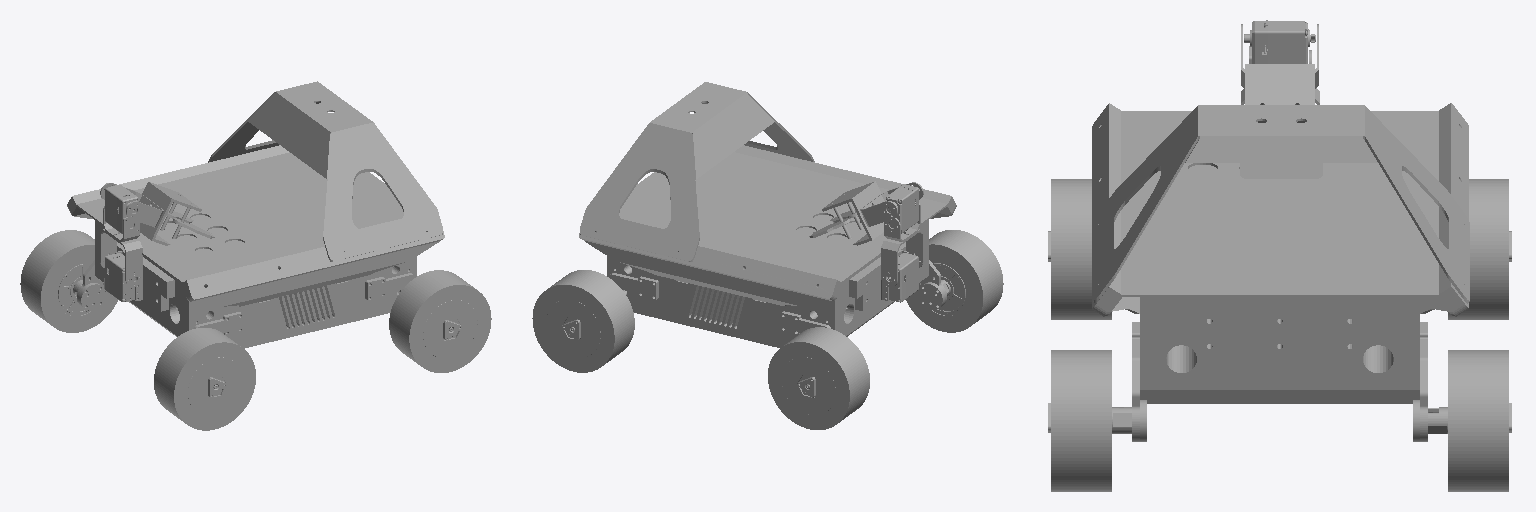
--- Facts derived from the render (not from the file) ---
The picture shows the robot from 3 angles, left to right: view 1: azimuth 30°, elevation 25°; view 2: azimuth 150°, elevation 25°; view 3: azimuth 270°, elevation 25°; orthographic projection.
Model v6 with 24 links and 23 joints (8 continuous, 15 fixed), rooted at base_link, posed every joint at zero.
Visible links, largest first — view 1: upper_blue_v1_1, upper_silver_v1_1, base_link, new_wheel_v1_1, new_wheel_v1__2__1, new_wheel_v1__2___1__1, grap_base_v1_1, big_U_self_v2_1, new_motor_v2_1, new_motor_v2__1__1, big_U_self_v2__1__1, car_stand_v2_1 (+2 smaller); view 2: upper_blue_v1_1, upper_silver_v1_1, base_link, new_wheel_v1__2___1__1, new_wheel_v1__1__1, new_wheel_v1__2__1, grap_base_v1_1, big_U_self_v2_1, new_motor_v2_1, new_motor_v2__1__1, big_U_self_v2__1__1, car_stand_v2__1__1 (+2 smaller); view 3: upper_blue_v1_1, base_link, upper_silver_v1_1, new_wheel_v1_1, new_wheel_v1__1__1, new_wheel_v1__2__1, new_wheel_v1__2___1__1, grap_base_v1_1, new_motor_v2__1__1, car_stand_v2_1, car_stand_v2__1__1.
Link boxes in pixels (x1,y1,x2,y2): upper_blue_v1_1: (67, 145, 444, 306); upper_silver_v1_1: (208, 81, 442, 261); base_link: (95, 215, 416, 348); new_wheel_v1_1: (389, 270, 491, 372); new_wheel_v1__2__1: (154, 328, 255, 430); new_wheel_v1__2___1__1: (20, 230, 117, 332); grap_base_v1_1: (140, 182, 201, 245); big_U_self_v2_1: (100, 229, 142, 287); new_motor_v2_1: (104, 253, 137, 301); new_motor_v2__1__1: (105, 185, 137, 233); big_U_self_v2__1__1: (100, 183, 163, 227); car_stand_v2_1: (365, 273, 415, 300); upper_blue_v1_1: (579, 145, 956, 306); upper_silver_v1_1: (580, 82, 814, 261); base_link: (607, 203, 928, 347); new_wheel_v1__2___1__1: (768, 327, 869, 429); new_wheel_v1__1__1: (532, 270, 634, 372); new_wheel_v1__2__1: (906, 230, 1003, 332); grap_base_v1_1: (822, 181, 883, 245); big_U_self_v2_1: (881, 229, 923, 287); new_motor_v2_1: (886, 253, 918, 302); new_motor_v2__1__1: (886, 184, 918, 233); big_U_self_v2__1__1: (860, 182, 923, 226); car_stand_v2__1__1: (608, 273, 658, 300); upper_blue_v1_1: (1092, 103, 1468, 316); base_link: (1140, 165, 1419, 403); upper_silver_v1_1: (1093, 105, 1469, 303); new_wheel_v1_1: (1048, 350, 1131, 491); new_wheel_v1__1__1: (1428, 350, 1511, 491); new_wheel_v1__2__1: (1048, 179, 1111, 319); new_wheel_v1__2___1__1: (1448, 179, 1511, 319); grap_base_v1_1: (1245, 64, 1314, 104); new_motor_v2__1__1: (1244, 20, 1315, 63); car_stand_v2_1: (1132, 322, 1139, 441); car_stand_v2__1__1: (1420, 322, 1427, 441).
Bounding box of the posed robot: 0.3889 × 0.3306 × 0.2581 m (x, y, z).
Meshes: 24 distinct files referenced, 24 mesh visuals loaded (24 binary STL).

The robot description file, URDF, robot "v6":
<?xml version='1.0' encoding='utf-8'?>
<robot name="v6">
  <material name="silver">
    <color rgba="0.700 0.700 0.700 1.000" />
  </material>
  <transmission name="Revolute 29_tran">
    <type>transmission_interface/SimpleTransmission</type>
    <joint name="Revolute 29">
      <hardwareInterface>hardware_interface/EffortJointInterface</hardwareInterface>
    </joint>
    <actuator name="Revolute 29_actr">
      <hardwareInterface>hardware_interface/EffortJointInterface</hardwareInterface>
      <mechanicalReduction>1</mechanicalReduction>
    </actuator>
  </transmission>
  <transmission name="Revolute 32_tran">
    <type>transmission_interface/SimpleTransmission</type>
    <joint name="Revolute 32">
      <hardwareInterface>hardware_interface/EffortJointInterface</hardwareInterface>
    </joint>
    <actuator name="Revolute 32_actr">
      <hardwareInterface>hardware_interface/EffortJointInterface</hardwareInterface>
      <mechanicalReduction>1</mechanicalReduction>
    </actuator>
  </transmission>
  <transmission name="Revolute 35_tran">
    <type>transmission_interface/SimpleTransmission</type>
    <joint name="Revolute 35">
      <hardwareInterface>hardware_interface/EffortJointInterface</hardwareInterface>
    </joint>
    <actuator name="Revolute 35_actr">
      <hardwareInterface>hardware_interface/EffortJointInterface</hardwareInterface>
      <mechanicalReduction>1</mechanicalReduction>
    </actuator>
  </transmission>
  <transmission name="Revolute 38_tran">
    <type>transmission_interface/SimpleTransmission</type>
    <joint name="Revolute 38">
      <hardwareInterface>hardware_interface/EffortJointInterface</hardwareInterface>
    </joint>
    <actuator name="Revolute 38_actr">
      <hardwareInterface>hardware_interface/EffortJointInterface</hardwareInterface>
      <mechanicalReduction>1</mechanicalReduction>
    </actuator>
  </transmission>
  <transmission name="Revolute 41_tran">
    <type>transmission_interface/SimpleTransmission</type>
    <joint name="Revolute 41">
      <hardwareInterface>hardware_interface/EffortJointInterface</hardwareInterface>
    </joint>
    <actuator name="Revolute 41_actr">
      <hardwareInterface>hardware_interface/EffortJointInterface</hardwareInterface>
      <mechanicalReduction>1</mechanicalReduction>
    </actuator>
  </transmission>
  <transmission name="Revolute 44_tran">
    <type>transmission_interface/SimpleTransmission</type>
    <joint name="Revolute 44">
      <hardwareInterface>hardware_interface/EffortJointInterface</hardwareInterface>
    </joint>
    <actuator name="Revolute 44_actr">
      <hardwareInterface>hardware_interface/EffortJointInterface</hardwareInterface>
      <mechanicalReduction>1</mechanicalReduction>
    </actuator>
  </transmission>
  <transmission name="Revolute 48_tran">
    <type>transmission_interface/SimpleTransmission</type>
    <joint name="Revolute 48">
      <hardwareInterface>hardware_interface/EffortJointInterface</hardwareInterface>
    </joint>
    <actuator name="Revolute 48_actr">
      <hardwareInterface>hardware_interface/EffortJointInterface</hardwareInterface>
      <mechanicalReduction>1</mechanicalReduction>
    </actuator>
  </transmission>
  <transmission name="Revolute 49_tran">
    <type>transmission_interface/SimpleTransmission</type>
    <joint name="Revolute 49">
      <hardwareInterface>hardware_interface/EffortJointInterface</hardwareInterface>
    </joint>
    <actuator name="Revolute 49_actr">
      <hardwareInterface>hardware_interface/EffortJointInterface</hardwareInterface>
      <mechanicalReduction>1</mechanicalReduction>
    </actuator>
  </transmission>
  <gazebo>
    <plugin filename="libgazebo_ros_control.so" name="control" />
  </gazebo>
  <gazebo reference="base_link">
    <material>Gazebo/Silver</material>
    <mu1>0.2</mu1>
    <mu2>0.2</mu2>
    <selfCollide>true</selfCollide>
    <gravity>true</gravity>
  </gazebo>
  <gazebo reference="upper_blue_v1_1">
    <material>Gazebo/Silver</material>
    <mu1>0.2</mu1>
    <mu2>0.2</mu2>
    <selfCollide>true</selfCollide>
  </gazebo>
  <gazebo reference="upper_silver_v1_1">
    <material>Gazebo/Silver</material>
    <mu1>0.2</mu1>
    <mu2>0.2</mu2>
    <selfCollide>true</selfCollide>
  </gazebo>
  <gazebo reference="Side_U_Bracket_Component1_v2_1">
    <material>Gazebo/Silver</material>
    <mu1>0.2</mu1>
    <mu2>0.2</mu2>
    <selfCollide>true</selfCollide>
  </gazebo>
  <gazebo reference="new_motor_v2_1">
    <material>Gazebo/Silver</material>
    <mu1>0.2</mu1>
    <mu2>0.2</mu2>
    <selfCollide>true</selfCollide>
  </gazebo>
  <gazebo reference="car_stand_v2_1">
    <material>Gazebo/Silver</material>
    <mu1>0.2</mu1>
    <mu2>0.2</mu2>
    <selfCollide>true</selfCollide>
  </gazebo>
  <gazebo reference="car_stand_2_v2_v1_1">
    <material>Gazebo/Silver</material>
    <mu1>0.2</mu1>
    <mu2>0.2</mu2>
    <selfCollide>true</selfCollide>
  </gazebo>
  <gazebo reference="new_wheel_v1_1">
    <material>Gazebo/Silver</material>
    <mu1>0.2</mu1>
    <mu2>0.2</mu2>
    <selfCollide>true</selfCollide>
  </gazebo>
  <gazebo reference="car_stand_v2__1__1">
    <material>Gazebo/Silver</material>
    <mu1>0.2</mu1>
    <mu2>0.2</mu2>
    <selfCollide>true</selfCollide>
  </gazebo>
  <gazebo reference="car_stand_2_v2_v1__1__1">
    <material>Gazebo/Silver</material>
    <mu1>0.2</mu1>
    <mu2>0.2</mu2>
    <selfCollide>true</selfCollide>
  </gazebo>
  <gazebo reference="new_wheel_v1__1__1">
    <material>Gazebo/Silver</material>
    <mu1>0.2</mu1>
    <mu2>0.2</mu2>
    <selfCollide>true</selfCollide>
  </gazebo>
  <gazebo reference="car_stand_v2__2__1">
    <material>Gazebo/Silver</material>
    <mu1>0.2</mu1>
    <mu2>0.2</mu2>
    <selfCollide>true</selfCollide>
  </gazebo>
  <gazebo reference="car_stand_2_v2_v1__2__1">
    <material>Gazebo/Silver</material>
    <mu1>0.2</mu1>
    <mu2>0.2</mu2>
    <selfCollide>true</selfCollide>
  </gazebo>
  <gazebo reference="new_wheel_v1__2__1">
    <material>Gazebo/Silver</material>
    <mu1>0.2</mu1>
    <mu2>0.2</mu2>
    <selfCollide>true</selfCollide>
  </gazebo>
  <gazebo reference="car_stand_v2__2___1__1">
    <material>Gazebo/Silver</material>
    <mu1>0.2</mu1>
    <mu2>0.2</mu2>
    <selfCollide>true</selfCollide>
  </gazebo>
  <gazebo reference="car_stand_2_v2_v1__2___1__1">
    <material>Gazebo/Silver</material>
    <mu1>0.2</mu1>
    <mu2>0.2</mu2>
    <selfCollide>true</selfCollide>
  </gazebo>
  <gazebo reference="new_wheel_v1__2___1__1">
    <material>Gazebo/Silver</material>
    <mu1>0.2</mu1>
    <mu2>0.2</mu2>
    <selfCollide>true</selfCollide>
  </gazebo>
  <gazebo reference="big_U_self_v2_1">
    <material>Gazebo/Silver</material>
    <mu1>0.2</mu1>
    <mu2>0.2</mu2>
    <selfCollide>true</selfCollide>
  </gazebo>
  <gazebo reference="small_U_self_v3_v2_1">
    <material>Gazebo/Silver</material>
    <mu1>0.2</mu1>
    <mu2>0.2</mu2>
    <selfCollide>true</selfCollide>
  </gazebo>
  <gazebo reference="new_motor_v2__1__1">
    <material>Gazebo/Silver</material>
    <mu1>0.2</mu1>
    <mu2>0.2</mu2>
    <selfCollide>true</selfCollide>
  </gazebo>
  <gazebo reference="big_U_self_v2__1__1">
    <material>Gazebo/Silver</material>
    <mu1>0.2</mu1>
    <mu2>0.2</mu2>
    <selfCollide>true</selfCollide>
  </gazebo>
  <gazebo reference="grap_base_v1_1">
    <material>Gazebo/Silver</material>
    <mu1>0.2</mu1>
    <mu2>0.2</mu2>
    <selfCollide>true</selfCollide>
  </gazebo>
  <gazebo reference="grap2_v2_1">
    <material>Gazebo/Silver</material>
    <mu1>0.2</mu1>
    <mu2>0.2</mu2>
    <selfCollide>true</selfCollide>
  </gazebo>
  <gazebo reference="grap2_v2_Mirror__1">
    <material>Gazebo/Silver</material>
    <mu1>0.2</mu1>
    <mu2>0.2</mu2>
    <selfCollide>true</selfCollide>
  </gazebo>
  <link name="base_link">
    <inertial>
      <origin rpy="0 0 0" xyz="-0.11553126426818264 0.3343509101041353 0.06210098740688249" />
      <mass value="37.56290080252228" />
      <inertia ixx="0.155633" ixy="-0.0" ixz="0.000286" iyy="0.297492" iyz="0.0" izz="0.386843" />
    </inertial>
    <visual>
      <origin rpy="0 0 0" xyz="0 0 0" />
      <geometry>
        <mesh filename="package://v6_description/meshes/base_link.stl" scale="0.001 0.001 0.001" />
      </geometry>
      <material name="silver" />
    </visual>
    <collision>
      <origin rpy="0 0 0" xyz="0 0 0" />
      <geometry>
        <mesh filename="package://v6_description/meshes/base_link.stl" scale="0.001 0.001 0.001" />
      </geometry>
    </collision>
  </link>
  <link name="upper_blue_v1_1">
    <inertial>
      <origin rpy="0 0 0" xyz="0.0009557467788307433 0.0018926108398634733 -0.005546368824775272" />
      <mass value="2.711654241548037" />
      <inertia ixx="0.029512" ixy="4.7e-05" ixz="-1.7e-05" iyy="0.020937" iyz="-2e-05" izz="0.049756" />
    </inertial>
    <visual>
      <origin rpy="0 0 0" xyz="0.114065 -0.334351 -0.110913" />
      <geometry>
        <mesh filename="package://v6_description/meshes/upper_blue_v1_1.stl" scale="0.001 0.001 0.001" />
      </geometry>
      <material name="silver" />
    </visual>
    <collision>
      <origin rpy="0 0 0" xyz="0.114065 -0.334351 -0.110913" />
      <geometry>
        <mesh filename="package://v6_description/meshes/upper_blue_v1_1.stl" scale="0.001 0.001 0.001" />
      </geometry>
    </collision>
  </link>
  <link name="upper_silver_v1_1">
    <inertial>
      <origin rpy="0 0 0" xyz="-0.05397145103461684 0.12865565118005895 0.06340297559246169" />
      <mass value="0.5824308278195107" />
      <inertia ixx="0.00486" ixy="0.0" ixz="2.4e-05" iyy="0.001444" iyz="-0.0" izz="0.004712" />
    </inertial>
    <visual>
      <origin rpy="0 0 0" xyz="-0.020935 -0.20677 -0.110239" />
      <geometry>
        <mesh filename="package://v6_description/meshes/upper_silver_v1_1.stl" scale="0.001 0.001 0.001" />
      </geometry>
      <material name="silver" />
    </visual>
    <collision>
      <origin rpy="0 0 0" xyz="-0.020935 -0.20677 -0.110239" />
      <geometry>
        <mesh filename="package://v6_description/meshes/upper_silver_v1_1.stl" scale="0.001 0.001 0.001" />
      </geometry>
    </collision>
  </link>
  <link name="Side_U_Bracket_Component1_v2_1">
    <inertial>
      <origin rpy="0 0 0" xyz="-0.0021965017854476687 -8.991875011243877e-08 -8.398858180322377e-05" />
      <mass value="0.02951040982880665" />
      <inertia ixx="1.1e-05" ixy="0.0" ixz="-0.0" iyy="4e-06" iyz="-0.0" izz="7e-06" />
    </inertial>
    <visual>
      <origin rpy="0 0 0" xyz="0.264049 -0.334351 -0.074934" />
      <geometry>
        <mesh filename="package://v6_description/meshes/Side_U_Bracket_Component1_v2_1.stl" scale="0.001 0.001 0.001" />
      </geometry>
      <material name="silver" />
    </visual>
    <collision>
      <origin rpy="0 0 0" xyz="0.264049 -0.334351 -0.074934" />
      <geometry>
        <mesh filename="package://v6_description/meshes/Side_U_Bracket_Component1_v2_1.stl" scale="0.001 0.001 0.001" />
      </geometry>
    </collision>
  </link>
  <link name="new_motor_v2_1">
    <inertial>
      <origin rpy="0 0 0" xyz="-0.007329192500702741 -0.022426817930538745 0.017705283950517715" />
      <mass value="0.2036448419526595" />
      <inertia ixx="5.1e-05" ixy="-0.0" ixz="-0.0" iyy="3.5e-05" iyz="-0.0" izz="3e-05" />
    </inertial>
    <visual>
      <origin rpy="0 0 0" xyz="0.271362 -0.354601 -0.057401" />
      <geometry>
        <mesh filename="package://v6_description/meshes/new_motor_v2_1.stl" scale="0.001 0.001 0.001" />
      </geometry>
      <material name="silver" />
    </visual>
    <collision>
      <origin rpy="0 0 0" xyz="0.271362 -0.354601 -0.057401" />
      <geometry>
        <mesh filename="package://v6_description/meshes/new_motor_v2_1.stl" scale="0.001 0.001 0.001" />
      </geometry>
    </collision>
  </link>
  <link name="car_stand_v2_1">
    <inertial>
      <origin rpy="0 0 0" xyz="0.03988982720191274 -0.0025000899185844416 -0.017953891628120888" />
      <mass value="0.06574803361092448" />
      <inertia ixx="1.6e-05" ixy="0.0" ixz="1.6e-05" iyy="5.4e-05" iyz="0.0" izz="3.7e-05" />
    </inertial>
    <visual>
      <origin rpy="0 0 0" xyz="0.034705 -0.234351 -0.052597" />
      <geometry>
        <mesh filename="package://v6_description/meshes/car_stand_v2_1.stl" scale="0.001 0.001 0.001" />
      </geometry>
      <material name="silver" />
    </visual>
    <collision>
      <origin rpy="0 0 0" xyz="0.034705 -0.234351 -0.052597" />
      <geometry>
        <mesh filename="package://v6_description/meshes/car_stand_v2_1.stl" scale="0.001 0.001 0.001" />
      </geometry>
    </collision>
  </link>
  <link name="car_stand_2_v2_v1_1">
    <inertial>
      <origin rpy="0 0 0" xyz="-0.008838436779542623 0.0024999100814157293 -0.008838742405980921" />
      <mass value="0.025649195499023388" />
      <inertia ixx="1e-06" ixy="0.0" ixz="0.0" iyy="3e-06" iyz="0.0" izz="1e-06" />
    </inertial>
    <visual>
      <origin rpy="0 0 0" xyz="-0.038906 -0.234351 -0.017587" />
      <geometry>
        <mesh filename="package://v6_description/meshes/car_stand_2_v2_v1_1.stl" scale="0.001 0.001 0.001" />
      </geometry>
      <material name="silver" />
    </visual>
    <collision>
      <origin rpy="0 0 0" xyz="-0.038906 -0.234351 -0.017587" />
      <geometry>
        <mesh filename="package://v6_description/meshes/car_stand_2_v2_v1_1.stl" scale="0.001 0.001 0.001" />
      </geometry>
    </collision>
  </link>
  <link name="new_wheel_v1_1">
    <inertial>
      <origin rpy="0 0 0" xyz="-7.661286367220688e-07 -0.03633722962657118 1.709065836411755e-06" />
      <mass value="2.7644063382593123" />
      <inertia ixx="0.002173" ixy="-0.0" ixz="0.0" iyy="0.003475" iyz="-0.0" izz="0.002173" />
    </inertial>
    <visual>
      <origin rpy="0 0 0" xyz="-0.030068 -0.229351 -0.008748" />
      <geometry>
        <mesh filename="package://v6_description/meshes/new_wheel_v1_1.stl" scale="0.001 0.001 0.001" />
      </geometry>
      <material name="silver" />
    </visual>
    <collision>
      <origin rpy="0 0 0" xyz="-0.030068 -0.229351 -0.008748" />
      <geometry>
        <mesh filename="package://v6_description/meshes/new_wheel_v1_1.stl" scale="0.001 0.001 0.001" />
      </geometry>
    </collision>
  </link>
  <link name="car_stand_v2__1__1">
    <inertial>
      <origin rpy="0 0 0" xyz="0.03988982720191739 0.0024999100814168673 -0.017953891628120867" />
      <mass value="0.06574803361092448" />
      <inertia ixx="1.6e-05" ixy="0.0" ixz="1.6e-05" iyy="5.4e-05" iyz="0.0" izz="3.7e-05" />
    </inertial>
    <visual>
      <origin rpy="0 0 0" xyz="0.034705 -0.434351 -0.052597" />
      <geometry>
        <mesh filename="package://v6_description/meshes/car_stand_v2__1__1.stl" scale="0.001 0.001 0.001" />
      </geometry>
      <material name="silver" />
    </visual>
    <collision>
      <origin rpy="0 0 0" xyz="0.034705 -0.434351 -0.052597" />
      <geometry>
        <mesh filename="package://v6_description/meshes/car_stand_v2__1__1.stl" scale="0.001 0.001 0.001" />
      </geometry>
    </collision>
  </link>
  <link name="car_stand_2_v2_v1__1__1">
    <inertial>
      <origin rpy="0 0 0" xyz="-0.008838436779537981 -0.002500089918583026 -0.008838742405980895" />
      <mass value="0.025649195499023388" />
      <inertia ixx="1e-06" ixy="-0.0" ixz="0.0" iyy="3e-06" iyz="0.0" izz="1e-06" />
    </inertial>
    <visual>
      <origin rpy="0 0 0" xyz="-0.038906 -0.434351 -0.017587" />
      <geometry>
        <mesh filename="package://v6_description/meshes/car_stand_2_v2_v1__1__1.stl" scale="0.001 0.001 0.001" />
      </geometry>
      <material name="silver" />
    </visual>
    <collision>
      <origin rpy="0 0 0" xyz="-0.038906 -0.434351 -0.017587" />
      <geometry>
        <mesh filename="package://v6_description/meshes/car_stand_2_v2_v1__1__1.stl" scale="0.001 0.001 0.001" />
      </geometry>
    </collision>
  </link>
  <link name="new_wheel_v1__1__1">
    <inertial>
      <origin rpy="0 0 0" xyz="-7.66128632066071e-07 0.036337049789403775 -1.1938777991337551e-06" />
      <mass value="2.7644063382593123" />
      <inertia ixx="0.002173" ixy="0.0" ixz="-0.0" iyy="0.003475" iyz="-0.0" izz="0.002173" />
    </inertial>
    <visual>
      <origin rpy="0 0 0" xyz="-0.030068 -0.439351 -0.008748" />
      <geometry>
        <mesh filename="package://v6_description/meshes/new_wheel_v1__1__1.stl" scale="0.001 0.001 0.001" />
      </geometry>
      <material name="silver" />
    </visual>
    <collision>
      <origin rpy="0 0 0" xyz="-0.030068 -0.439351 -0.008748" />
      <geometry>
        <mesh filename="package://v6_description/meshes/new_wheel_v1__1__1.stl" scale="0.001 0.001 0.001" />
      </geometry>
    </collision>
  </link>
  <link name="car_stand_v2__2__1">
    <inertial>
      <origin rpy="0 0 0" xyz="-0.039890552712641136 -0.002500089918581444 -0.01795389162812419" />
      <mass value="0.06574803361092448" />
      <inertia ixx="1.6e-05" ixy="0.0" ixz="-1.6e-05" iyy="5.4e-05" iyz="-0.0" izz="3.7e-05" />
    </inertial>
    <visual>
      <origin rpy="0 0 0" xyz="0.193373 -0.234351 -0.052597" />
      <geometry>
        <mesh filename="package://v6_description/meshes/car_stand_v2__2__1.stl" scale="0.001 0.001 0.001" />
      </geometry>
      <material name="silver" />
    </visual>
    <collision>
      <origin rpy="0 0 0" xyz="0.193373 -0.234351 -0.052597" />
      <geometry>
        <mesh filename="package://v6_description/meshes/car_stand_v2__2__1.stl" scale="0.001 0.001 0.001" />
      </geometry>
    </collision>
  </link>
  <link name="car_stand_2_v2_v1__2__1">
    <inertial>
      <origin rpy="0 0 0" xyz="0.00883871126878566 0.0024999100814186437 -0.008838742405986177" />
      <mass value="0.025649195499023388" />
      <inertia ixx="1e-06" ixy="0.0" ixz="0.0" iyy="3e-06" iyz="-0.0" izz="1e-06" />
    </inertial>
    <visual>
      <origin rpy="0 0 0" xyz="0.266985 -0.234351 -0.017587" />
      <geometry>
        <mesh filename="package://v6_description/meshes/car_stand_2_v2_v1__2__1.stl" scale="0.001 0.001 0.001" />
      </geometry>
      <material name="silver" />
    </visual>
    <collision>
      <origin rpy="0 0 0" xyz="0.266985 -0.234351 -0.017587" />
      <geometry>
        <mesh filename="package://v6_description/meshes/car_stand_2_v2_v1__2__1.stl" scale="0.001 0.001 0.001" />
      </geometry>
    </collision>
  </link>
  <link name="new_wheel_v1__2__1">
    <inertial>
      <origin rpy="0 0 0" xyz="-6.180803067135088e-07 -0.03633722962656821 1.7090658331400665e-06" />
      <mass value="2.7644063382593123" />
      <inertia ixx="0.002173" ixy="-0.0" ixz="0.0" iyy="0.003475" iyz="-0.0" izz="0.002173" />
    </inertial>
    <visual>
      <origin rpy="0 0 0" xyz="0.258146 -0.229351 -0.008748" />
      <geometry>
        <mesh filename="package://v6_description/meshes/new_wheel_v1__2__1.stl" scale="0.001 0.001 0.001" />
      </geometry>
      <material name="silver" />
    </visual>
    <collision>
      <origin rpy="0 0 0" xyz="0.258146 -0.229351 -0.008748" />
      <geometry>
        <mesh filename="package://v6_description/meshes/new_wheel_v1__2__1.stl" scale="0.001 0.001 0.001" />
      </geometry>
    </collision>
  </link>
  <link name="car_stand_v2__2___1__1">
    <inertial>
      <origin rpy="0 0 0" xyz="-0.02389055271263707 0.002499910081420531 -0.017953891628124496" />
      <mass value="0.06574803361092448" />
      <inertia ixx="1.6e-05" ixy="0.0" ixz="-1.6e-05" iyy="5.4e-05" iyz="0.0" izz="3.7e-05" />
    </inertial>
    <visual>
      <origin rpy="0 0 0" xyz="0.209373 -0.434351 -0.052597" />
      <geometry>
        <mesh filename="package://v6_description/meshes/car_stand_v2__2___1__1.stl" scale="0.001 0.001 0.001" />
      </geometry>
      <material name="silver" />
    </visual>
    <collision>
      <origin rpy="0 0 0" xyz="0.209373 -0.434351 -0.052597" />
      <geometry>
        <mesh filename="package://v6_description/meshes/car_stand_v2__2___1__1.stl" scale="0.001 0.001 0.001" />
      </geometry>
    </collision>
  </link>
  <link name="car_stand_2_v2_v1__2___1__1">
    <inertial>
      <origin rpy="0 0 0" xyz="0.008838711268789712 -0.0025000899185792513 -0.008838742405986496" />
      <mass value="0.025649195499023388" />
      <inertia ixx="1e-06" ixy="0.0" ixz="0.0" iyy="3e-06" iyz="0.0" izz="1e-06" />
    </inertial>
    <visual>
      <origin rpy="0 0 0" xyz="0.266985 -0.434351 -0.017587" />
      <geometry>
        <mesh filename="package://v6_description/meshes/car_stand_2_v2_v1__2___1__1.stl" scale="0.001 0.001 0.001" />
      </geometry>
      <material name="silver" />
    </visual>
    <collision>
      <origin rpy="0 0 0" xyz="0.266985 -0.434351 -0.017587" />
      <geometry>
        <mesh filename="package://v6_description/meshes/car_stand_2_v2_v1__2___1__1.stl" scale="0.001 0.001 0.001" />
      </geometry>
    </collision>
  </link>
  <link name="new_wheel_v1__2___1__1">
    <inertial>
      <origin rpy="0 0 0" xyz="-6.180803027167059e-07 0.036337049789407494 -1.1938778027593272e-06" />
      <mass value="2.7644063382593123" />
      <inertia ixx="0.002173" ixy="0.0" ixz="-0.0" iyy="0.003475" iyz="-0.0" izz="0.002173" />
    </inertial>
    <visual>
      <origin rpy="0 0 0" xyz="0.258146 -0.439351 -0.008748" />
      <geometry>
        <mesh filename="package://v6_description/meshes/new_wheel_v1__2___1__1.stl" scale="0.001 0.001 0.001" />
      </geometry>
      <material name="silver" />
    </visual>
    <collision>
      <origin rpy="0 0 0" xyz="0.258146 -0.439351 -0.008748" />
      <geometry>
        <mesh filename="package://v6_description/meshes/new_wheel_v1__2___1__1.stl" scale="0.001 0.001 0.001" />
      </geometry>
    </collision>
  </link>
  <link name="big_U_self_v2_1">
    <inertial>
      <origin rpy="0 0 0" xyz="-0.02423767526178927 -8.991950056769227e-08 -8.853660350069403e-06" />
      <mass value="0.041847447766480805" />
      <inertia ixx="2.4e-05" ixy="0.0" ixz="-0.0" iyy="1.1e-05" iyz="-0.0" izz="3.2e-05" />
    </inertial>
    <visual>
      <origin rpy="0 0 0" xyz="0.278674 -0.334851 -0.085006" />
      <geometry>
        <mesh filename="package://v6_description/meshes/big_U_self_v2_1.stl" scale="0.001 0.001 0.001" />
      </geometry>
      <material name="silver" />
    </visual>
    <collision>
      <origin rpy="0 0 0" xyz="0.278674 -0.334851 -0.085006" />
      <geometry>
        <mesh filename="package://v6_description/meshes/big_U_self_v2_1.stl" scale="0.001 0.001 0.001" />
      </geometry>
    </collision>
  </link>
  <link name="small_U_self_v3_v2_1">
    <inertial>
      <origin rpy="0 0 0" xyz="-0.009287648733685094 -0.0005384482220820441 -3.1143207411127305e-06" />
      <mass value="0.025534175468152884" />
      <inertia ixx="9e-06" ixy="-0.0" ixz="-0.0" iyy="3e-06" iyz="-0.0" izz="1e-05" />
    </inertial>
    <visual>
      <origin rpy="0 0 0" xyz="0.318674 -0.334851 -0.084991" />
      <geometry>
        <mesh filename="package://v6_description/meshes/small_U_self_v3_v2_1.stl" scale="0.001 0.001 0.001" />
      </geometry>
      <material name="silver" />
    </visual>
    <collision>
      <origin rpy="0 0 0" xyz="0.318674 -0.334851 -0.084991" />
      <geometry>
        <mesh filename="package://v6_description/meshes/small_U_self_v3_v2_1.stl" scale="0.001 0.001 0.001" />
      </geometry>
    </collision>
  </link>
  <link name="new_motor_v2__1__1">
    <inertial>
      <origin rpy="0 0 0" xyz="-0.0026535935407322464 0.02242666042984809 -0.007555050277332054" />
      <mass value="0.20364393858439991" />
      <inertia ixx="3e-05" ixy="-0.0" ixz="-0.0" iyy="3.5e-05" iyz="-0.0" izz="5.1e-05" />
    </inertial>
    <visual>
      <origin rpy="0 0 0" xyz="0.346177 -0.314601 -0.092481" />
      <geometry>
        <mesh filename="package://v6_description/meshes/new_motor_v2__1__1.stl" scale="0.001 0.001 0.001" />
      </geometry>
      <material name="silver" />
    </visual>
    <collision>
      <origin rpy="0 0 0" xyz="0.346177 -0.314601 -0.092481" />
      <geometry>
        <mesh filename="package://v6_description/meshes/new_motor_v2__1__1.stl" scale="0.001 0.001 0.001" />
      </geometry>
    </collision>
  </link>
  <link name="big_U_self_v2__1__1">
    <inertial>
      <origin rpy="0 0 0" xyz="-9.12643416350889e-06 -8.993477979002407e-08 0.024237117404991515" />
      <mass value="0.04184744776647988" />
      <inertia ixx="3.2e-05" ixy="0.0" ixz="0.0" iyy="1.1e-05" iyz="-0.0" izz="2.4e-05" />
    </inertial>
    <visual>
      <origin rpy="0 0 0" xyz="0.358674 -0.334351 -0.084977" />
      <geometry>
        <mesh filename="package://v6_description/meshes/big_U_self_v2__1__1.stl" scale="0.001 0.001 0.001" />
      </geometry>
      <material name="silver" />
    </visual>
    <collision>
      <origin rpy="0 0 0" xyz="0.358674 -0.334351 -0.084977" />
      <geometry>
        <mesh filename="package://v6_description/meshes/big_U_self_v2__1__1.stl" scale="0.001 0.001 0.001" />
      </geometry>
    </collision>
  </link>
  <link name="grap_base_v1_1">
    <inertial>
      <origin rpy="0 0 0" xyz="5.0604957804400996e-05 -8.993024042114328e-08 0.01574867865416396" />
      <mass value="0.16096668074514336" />
      <inertia ixx="6.6e-05" ixy="-0.0" ixz="-0.0" iyy="9.8e-05" iyz="-0.0" izz="9.8e-05" />
    </inertial>
    <visual>
      <origin rpy="0 0 0" xyz="0.358689 -0.334351 -0.124977" />
      <geometry>
        <mesh filename="package://v6_description/meshes/grap_base_v1_1.stl" scale="0.001 0.001 0.001" />
      </geometry>
      <material name="silver" />
    </visual>
    <collision>
      <origin rpy="0 0 0" xyz="0.358689 -0.334351 -0.124977" />
      <geometry>
        <mesh filename="package://v6_description/meshes/grap_base_v1_1.stl" scale="0.001 0.001 0.001" />
      </geometry>
    </collision>
  </link>
  <link name="grap2_v2_1">
    <inertial>
      <origin rpy="0 0 0" xyz="0.0011003881163325624 0.005586980664124386 0.0328376081661004" />
      <mass value="0.040626783640930766" />
      <inertia ixx="2.7e-05" ixy="0.0" ixz="-2e-06" iyy="2.6e-05" iyz="0.0" izz="3e-06" />
    </inertial>
    <visual>
      <origin rpy="0 0 0" xyz="0.358702 -0.346851 -0.160477" />
      <geometry>
        <mesh filename="package://v6_description/meshes/grap2_v2_1.stl" scale="0.001 0.001 0.001" />
      </geometry>
      <material name="silver" />
    </visual>
    <collision>
      <origin rpy="0 0 0" xyz="0.358702 -0.346851 -0.160477" />
      <geometry>
        <mesh filename="package://v6_description/meshes/grap2_v2_1.stl" scale="0.001 0.001 0.001" />
      </geometry>
    </collision>
  </link>
  <link name="grap2_v2_Mirror__1">
    <inertial>
      <origin rpy="0 0 0" xyz="0.0011003881213494937 -0.0055871605220216836 0.03283760816689857" />
      <mass value="0.04062678364093079" />
      <inertia ixx="2.7e-05" ixy="-0.0" ixz="-2e-06" iyy="2.6e-05" iyz="-0.0" izz="3e-06" />
    </inertial>
    <visual>
      <origin rpy="0 0 0" xyz="0.358702 -0.321851 -0.160477" />
      <geometry>
        <mesh filename="package://v6_description/meshes/grap2_v2_Mirror__1.stl" scale="0.001 0.001 0.001" />
      </geometry>
      <material name="silver" />
    </visual>
    <collision>
      <origin rpy="0 0 0" xyz="0.358702 -0.321851 -0.160477" />
      <geometry>
        <mesh filename="package://v6_description/meshes/grap2_v2_Mirror__1.stl" scale="0.001 0.001 0.001" />
      </geometry>
    </collision>
  </link>
  <joint name="Rigid 1" type="fixed">
    <origin rpy="0 0 0" xyz="-0.114065 0.334351 0.110913" />
    <parent link="base_link" />
    <child link="upper_blue_v1_1" />
  </joint>
  <joint name="Rigid 2" type="fixed">
    <origin rpy="0 0 0" xyz="0.135 -0.127581 -0.000674" />
    <parent link="upper_blue_v1_1" />
    <child link="upper_silver_v1_1" />
  </joint>
  <joint name="Rigid 3" type="fixed">
    <origin rpy="0 0 0" xyz="-0.264049 0.334351 0.074934" />
    <parent link="base_link" />
    <child link="Side_U_Bracket_Component1_v2_1" />
  </joint>
  <joint name="Rigid 16" type="fixed">
    <origin rpy="0 0 0" xyz="-0.007313 0.02025 -0.017533" />
    <parent link="Side_U_Bracket_Component1_v2_1" />
    <child link="new_motor_v2_1" />
  </joint>
  <joint name="Rigid 27" type="fixed">
    <origin rpy="0 0 0" xyz="-0.034705 0.234351 0.052597" />
    <parent link="base_link" />
    <child link="car_stand_v2_1" />
  </joint>
  <joint name="Rigid 28" type="fixed">
    <origin rpy="0 0 0" xyz="0.073611 0.0 -0.03501" />
    <parent link="car_stand_v2_1" />
    <child link="car_stand_2_v2_v1_1" />
  </joint>
  <joint name="Revolute 29" type="continuous">
    <origin rpy="0 0 0" xyz="0.064773 -0.005 -0.043849" />
    <parent link="car_stand_v2_1" />
    <child link="new_wheel_v1_1" />
    <axis xyz="0.0 1.0 0.0" />
  </joint>
  <joint name="Rigid 30" type="fixed">
    <origin rpy="0 0 0" xyz="-0.034705 0.434351 0.052597" />
    <parent link="base_link" />
    <child link="car_stand_v2__1__1" />
  </joint>
  <joint name="Rigid 31" type="fixed">
    <origin rpy="0 0 0" xyz="0.073611 0.0 -0.03501" />
    <parent link="car_stand_v2__1__1" />
    <child link="car_stand_2_v2_v1__1__1" />
  </joint>
  <joint name="Revolute 32" type="continuous">
    <origin rpy="0 0 0" xyz="0.064773 0.005 -0.043849" />
    <parent link="car_stand_v2__1__1" />
    <child link="new_wheel_v1__1__1" />
    <axis xyz="0.0 1.0 0.0" />
  </joint>
  <joint name="Rigid 33" type="fixed">
    <origin rpy="0 0 0" xyz="-0.193373 0.234351 0.052597" />
    <parent link="base_link" />
    <child link="car_stand_v2__2__1" />
  </joint>
  <joint name="Rigid 34" type="fixed">
    <origin rpy="0 0 0" xyz="-0.073612 0.0 -0.03501" />
    <parent link="car_stand_v2__2__1" />
    <child link="car_stand_2_v2_v1__2__1" />
  </joint>
  <joint name="Revolute 35" type="continuous">
    <origin rpy="0 0 0" xyz="-0.064773 -0.005 -0.043849" />
    <parent link="car_stand_v2__2__1" />
    <child link="new_wheel_v1__2__1" />
    <axis xyz="0.0 -1.0 -0.0" />
  </joint>
  <joint name="Rigid 36" type="fixed">
    <origin rpy="0 0 0" xyz="-0.209373 0.434351 0.052597" />
    <parent link="base_link" />
    <child link="car_stand_v2__2___1__1" />
  </joint>
  <joint name="Rigid 37" type="fixed">
    <origin rpy="0 0 0" xyz="-0.057612 0.0 -0.03501" />
    <parent link="car_stand_v2__2___1__1" />
    <child link="car_stand_2_v2_v1__2___1__1" />
  </joint>
  <joint name="Revolute 38" type="continuous">
    <origin rpy="0 0 0" xyz="-0.048773 0.005 -0.043849" />
    <parent link="car_stand_v2__2___1__1" />
    <child link="new_wheel_v1__2___1__1" />
    <axis xyz="-0.0 1.0 0.0" />
  </joint>
  <joint name="Revolute 41" type="continuous">
    <origin rpy="0 1.57079633 -0" xyz="-0.007312 -0.01975 0.027605" />
    <parent link="new_motor_v2_1" />
    <child link="big_U_self_v2_1" />
    <axis xyz="0.0 -1.0 0.0" />
  </joint>
  <joint name="Rigid 42" type="fixed">
    <origin rpy="0 0 0" xyz="-0.04 0.0 -1.5e-05" />
    <parent link="big_U_self_v2_1" />
    <child link="small_U_self_v3_v2_1" />
  </joint>
  <joint name="Rigid 43" type="fixed">
    <origin rpy="0 0 0" xyz="-0.027503 -0.02025 0.00749" />
    <parent link="small_U_self_v3_v2_1" />
    <child link="new_motor_v2__1__1" />
  </joint>
  <joint name="Revolute 44" type="continuous">
    <origin rpy="0 0.523598776 0" xyz="-0.012497 0.01975 -0.007504" />
    <parent link="new_motor_v2__1__1" />
    <child link="big_U_self_v2__1__1" />
    <axis xyz="0.0 -1.0 -0.0" />
  </joint>
  <joint name="Rigid 45" type="fixed">
    <origin rpy="0 0 0" xyz="-1.5e-05 0.0 0.04" />
    <parent link="big_U_self_v2__1__1" />
    <child link="grap_base_v1_1" />
  </joint>
  <joint name="Revolute 48" type="continuous">
    <origin rpy="0 0 0" xyz="-1.3e-05 0.0125 0.0355" />
    <parent link="grap_base_v1_1" />
    <child link="grap2_v2_1" />
    <axis xyz="-1.0 -0.0 -0.00037" />
  </joint>
  <joint name="Revolute 49" type="continuous">
    <origin rpy="0 0 0" xyz="-1.3e-05 -0.0125 0.0355" />
    <parent link="grap_base_v1_1" />
    <child link="grap2_v2_Mirror__1" />
    <axis xyz="1.0 0.0 0.00037" />
  </joint>
</robot>
